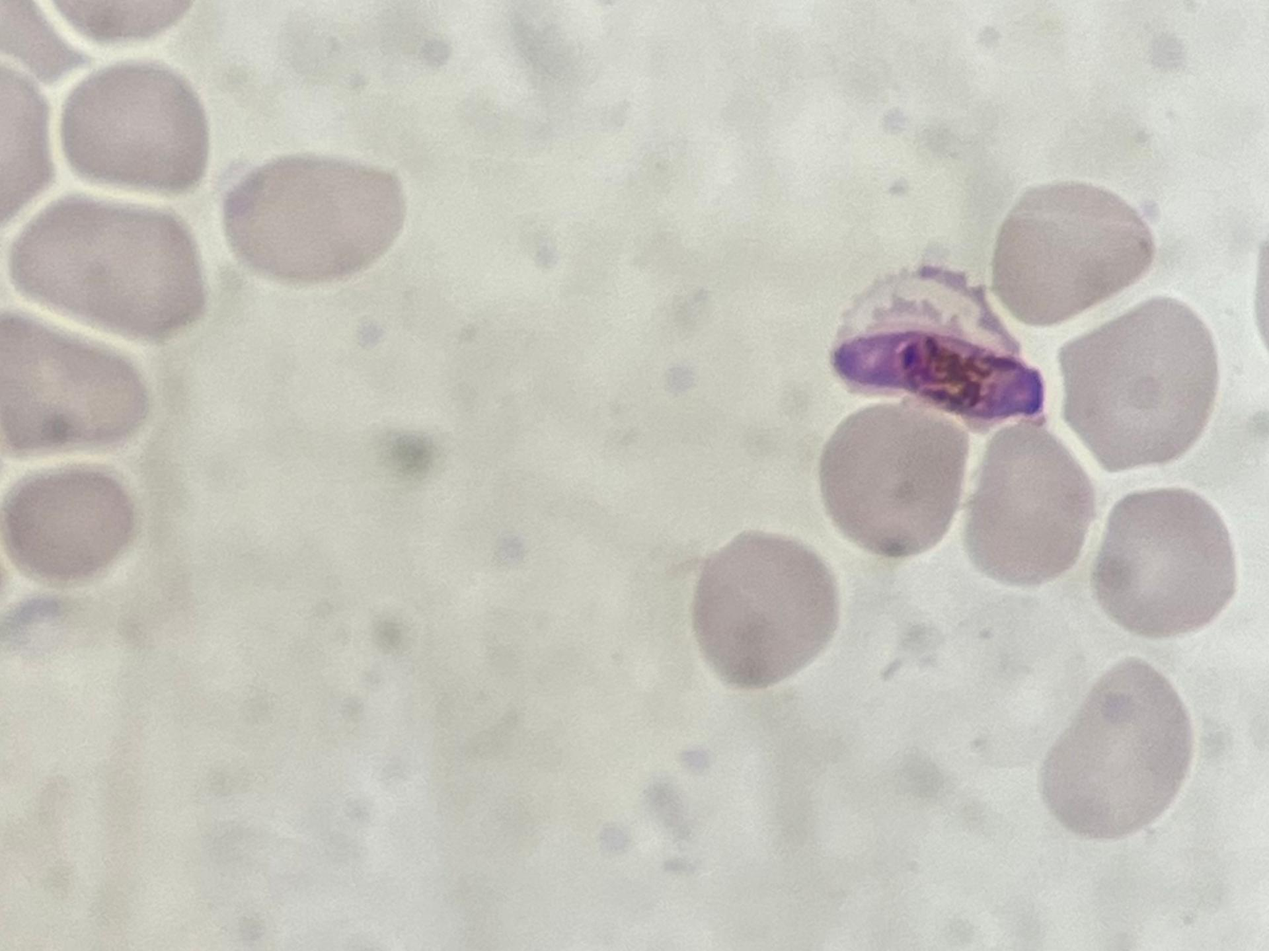Infected: (829, 261, 1047, 435)
Uninfected: (1038, 656, 1196, 842), (1056, 293, 1216, 475), (7, 200, 208, 341), (691, 532, 842, 693), (220, 159, 407, 288), (818, 400, 966, 561), (991, 179, 1150, 327), (963, 422, 1098, 588), (0, 316, 151, 460), (1100, 484, 1233, 639), (59, 60, 212, 192), (0, 470, 136, 584)
